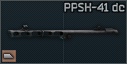PPSh-41 dust cover: (0, 0, 127, 64)
